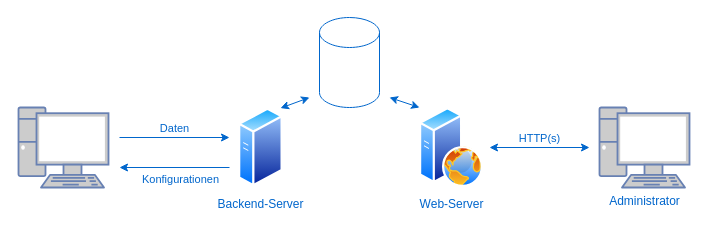
Some shapes in this 707 by 229 pixel diagram are drawn without their labels. The centre of each missing label's shape, as x and y in pixels:
"Client" belongs at [63,147].
"Datenbank" belongs at [349,62].
